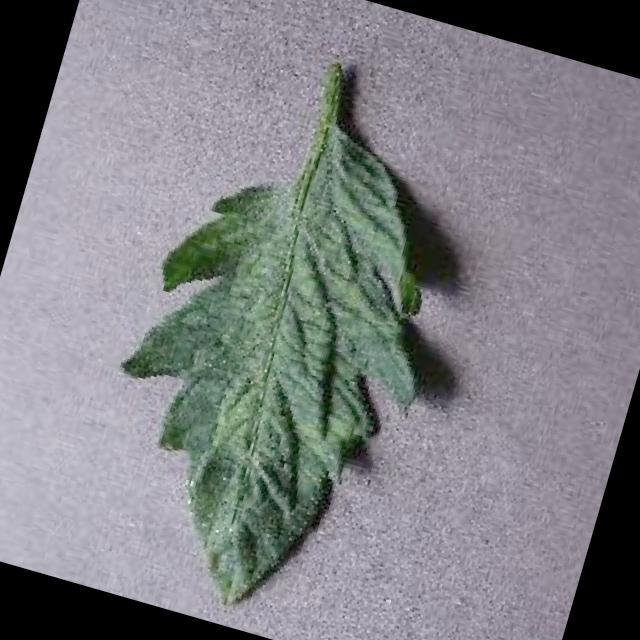Tomato mosaic virus leaf: (61, 90, 482, 640)
